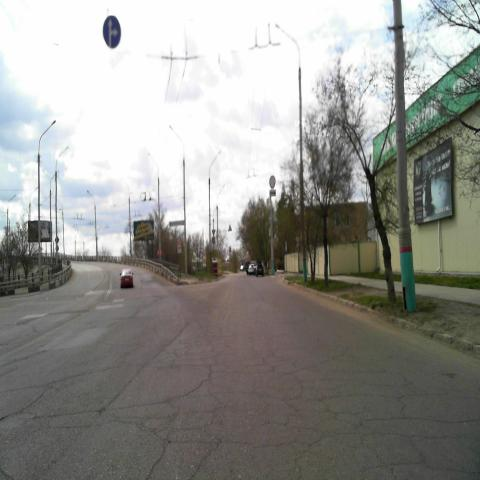3_2: (269, 176, 276, 188)
4_1_4: (103, 16, 121, 47)
